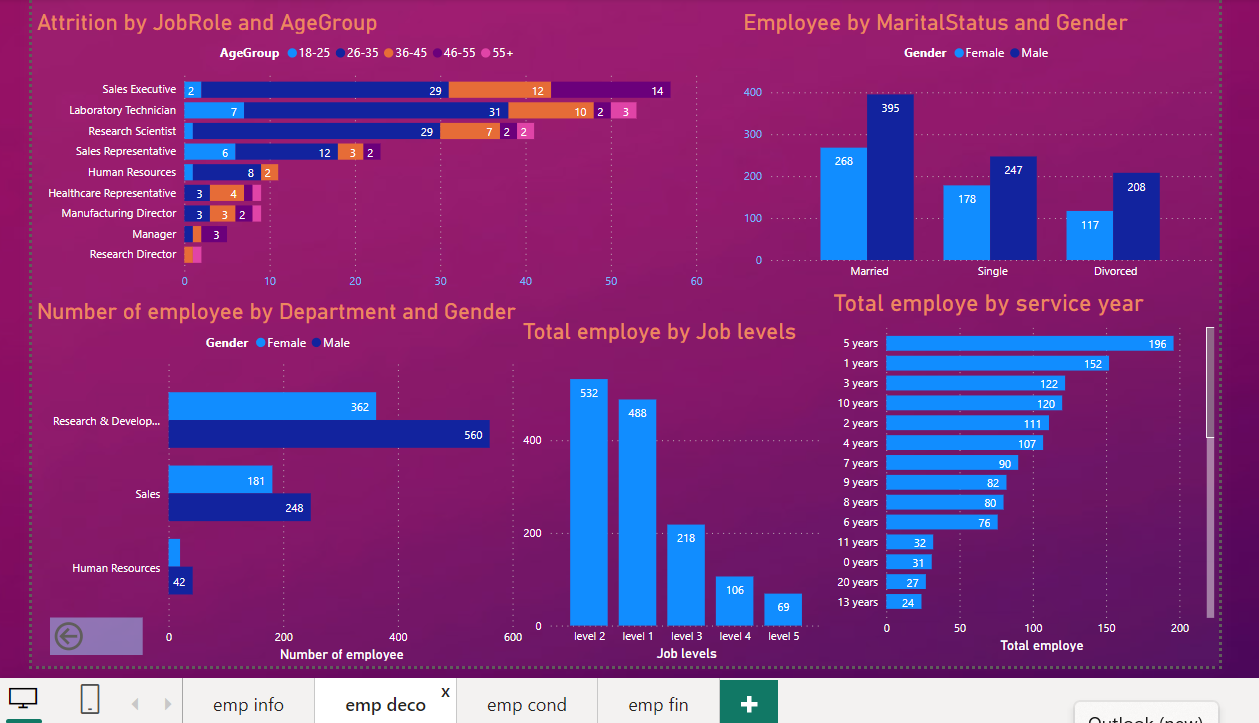

The dashboard page shown, as its layout file describes it:
{"tool":"powerbi","page":{"name":"emp deco","canvas":[1280,720],"ordinal":1},"visuals":[{"type":"barChart","fields":{"Category":["HR_Analytics.JobRole"],"Y":["Sum(HR_Analytics.Attrition count)"],"Series":["HR_Analytics.AgeGroup"]},"box":[0,11.3,728.1,312.3],"z":0},{"type":"clusteredColumnChart","fields":{"Category":["HR_Analytics.MaritalStatus"],"Y":["CountNonNull(HR_Analytics.EmpID)"],"Series":["HR_Analytics.Gender"]},"box":[762.1,11.3,517.8,300.9],"z":1000},{"type":"clusteredBarChart","fields":{"Category":["HR_Analytics.Department"],"Y":["CountNonNull(HR_Analytics.EmpID)"],"Series":["HR_Analytics.Gender"]},"box":[0,323.6,535.6,396.4],"z":2000},{"type":"clusteredBarChart","fields":{"Y":["HR_Analytics.Total employe"],"Category":["HR_Analytics.service year"]},"box":[859.1,313.9,420.7,396.4],"z":3000},{"type":"actionButton","box":[19.4,668.2,100.3,40.4],"z":4000},{"type":"clusteredColumnChart","fields":{"Category":["HR_Analytics.Job levels"],"Y":["HR_Analytics.Total employe"]},"box":[525,345,333.3,375],"z":5000}]}

Visuals, with their boxes on the page's 1280x720 design canvas (x1, y1, x2, y2). These are canvas units, not pixel positions in the 1259x723 screenshot, which may show the page scaled, cropped or inside an application window:
barChart - HR_Analytics.JobRole x Sum(HR_Analytics.Attrition count): Rect(0, 11, 728, 324)
clusteredColumnChart - HR_Analytics.MaritalStatus x CountNonNull(HR_Analytics.EmpID): Rect(762, 11, 1280, 312)
clusteredBarChart - HR_Analytics.Department x CountNonNull(HR_Analytics.EmpID): Rect(0, 324, 536, 720)
clusteredBarChart - HR_Analytics.Total employe x HR_Analytics.service year: Rect(859, 314, 1280, 710)
actionButton: Rect(19, 668, 120, 709)
clusteredColumnChart - HR_Analytics.Job levels x HR_Analytics.Total employe: Rect(525, 345, 858, 720)
